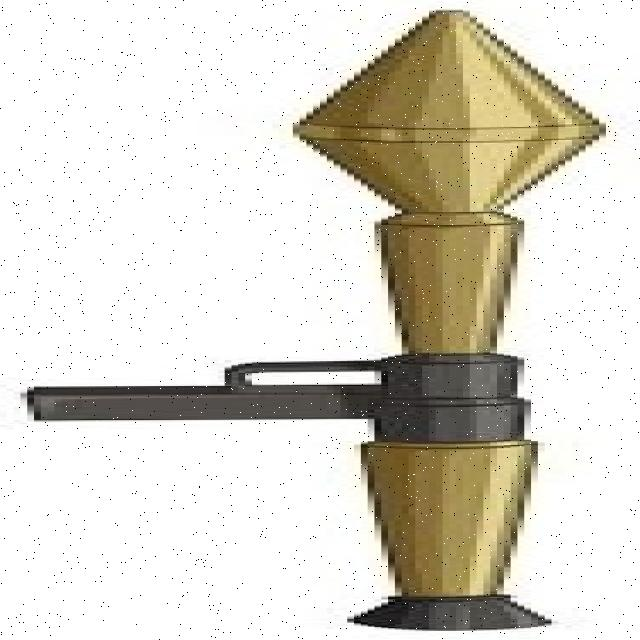bazooka: (1, 1, 619, 640)
